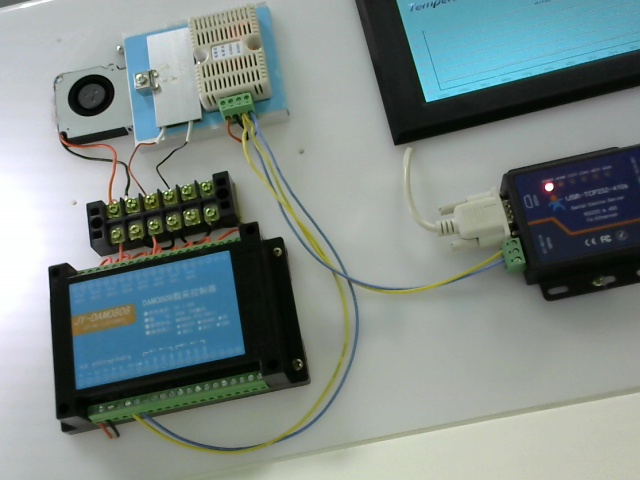fan: (47, 61, 131, 149)
relay: (38, 251, 344, 433)
termperature: (190, 7, 274, 120)
